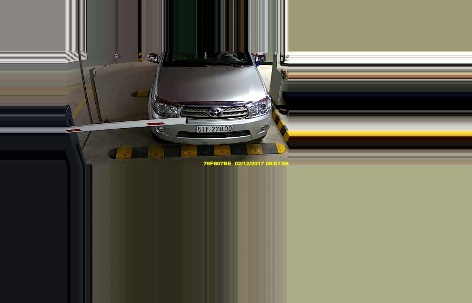plate: (196, 122, 235, 136)
